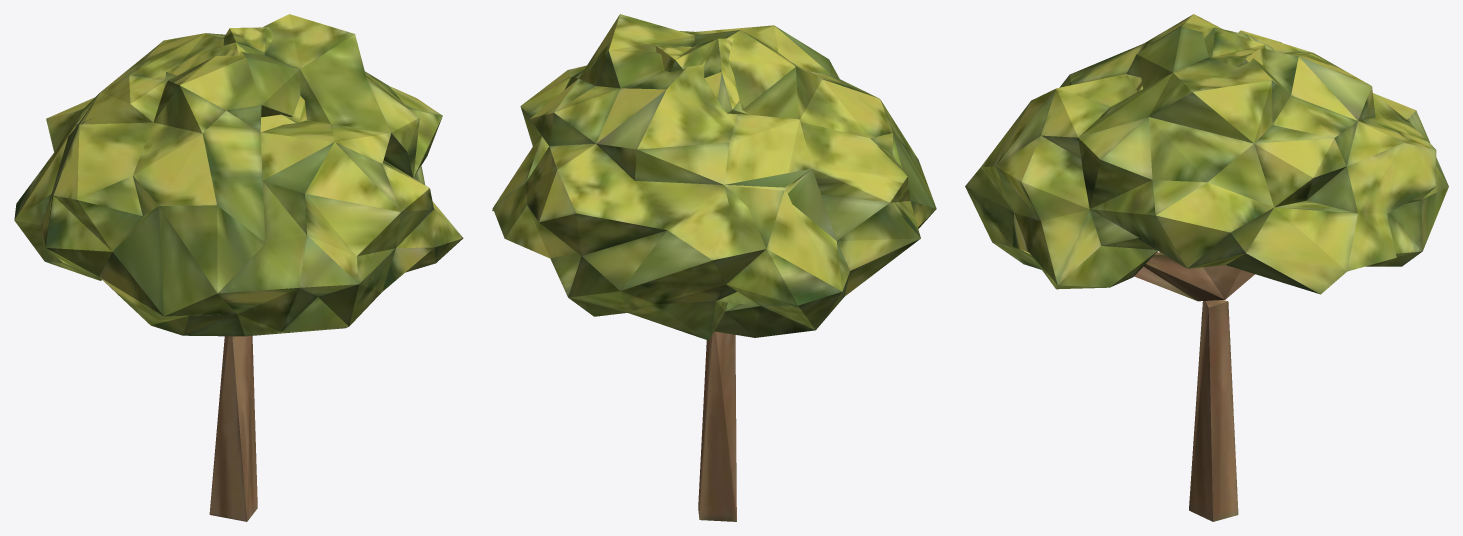
The model's file is tree_round_a_far.glb.
3 views of the same model, side by side, from view 1: azimuth 30°, elevation 25°; view 2: azimuth 150°, elevation 25°; view 3: azimuth 270°, elevation 25° (orthographic). The views are drawn at different scales.
Visible parts, largest first — view 1: body; view 2: body; view 3: body.
Boxes of the visible parts, bbox=[...] form: body: bbox=[14, 14, 463, 521]; body: bbox=[492, 14, 936, 521]; body: bbox=[965, 14, 1448, 521].
Bounding box in the file's own units: 4.68 × 5.47 × 4.96.
2 materials, 2 textured.
